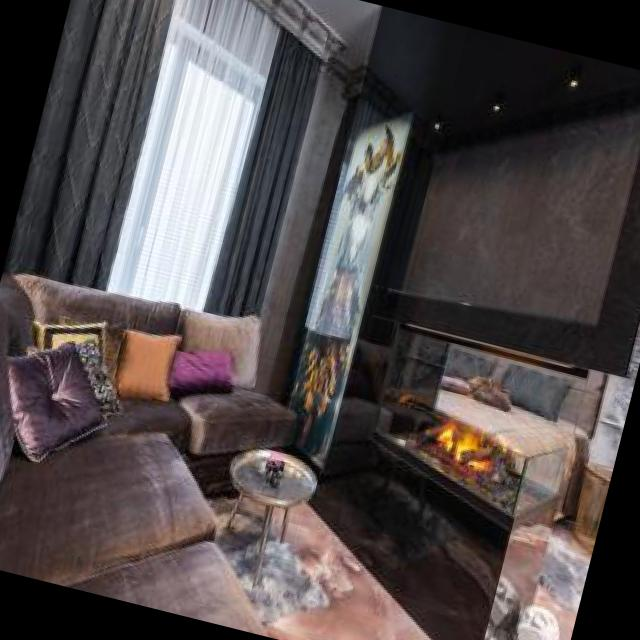Fire: (416, 404, 505, 490)
